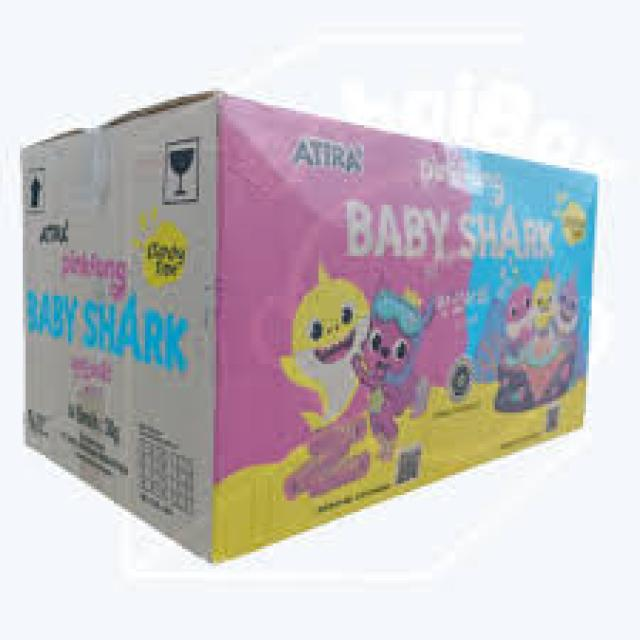Kardus kondisi bagus: (21, 93, 599, 564)
